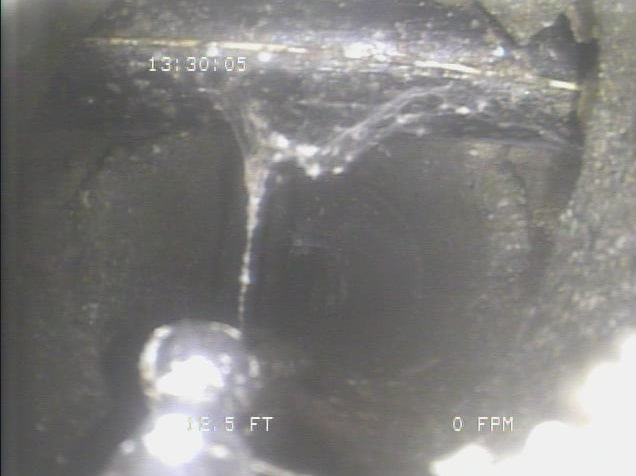cb: (38, 1, 625, 192), (53, 17, 625, 116)
